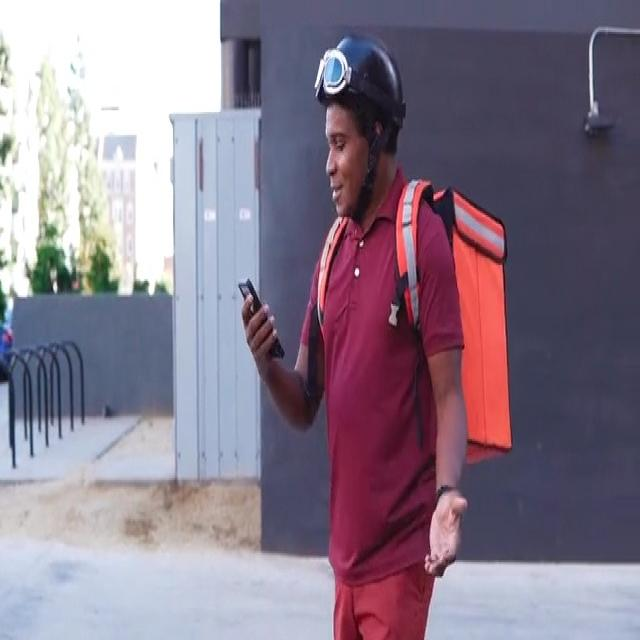Helmet_Wearer: (314, 21, 402, 220)
Person: (223, 26, 470, 640)
